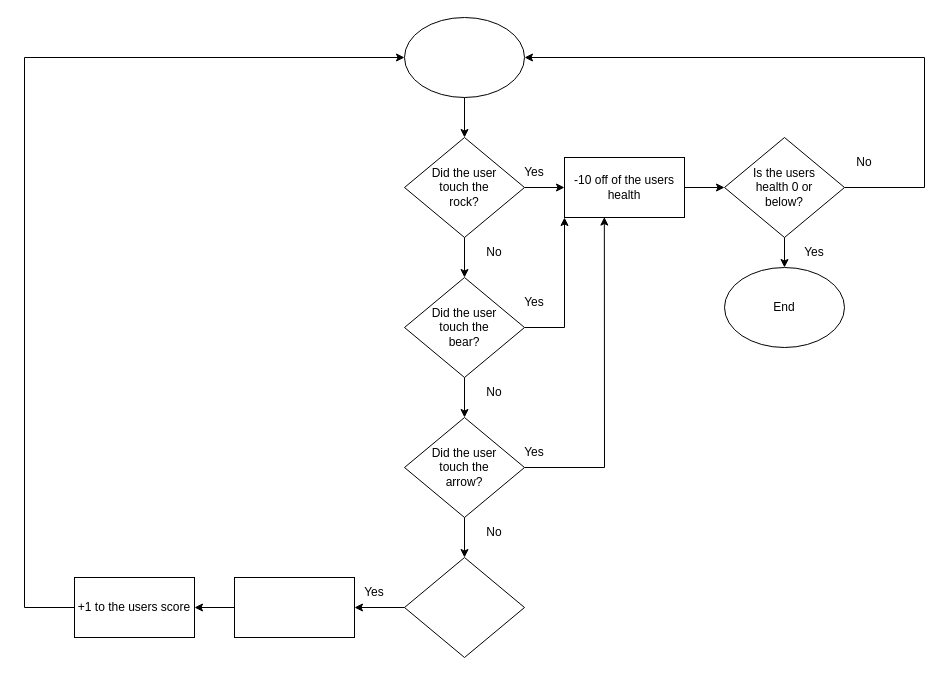
Some shapes in this 950 by 675 pixel diagram are drawn without their labels. The centre of each missing label's shape, as x and y in pixels:
+10 to the users health: (x=294, y=607)
Did the user touch the carrot?: (x=464, y=607)
Start: (x=464, y=57)
